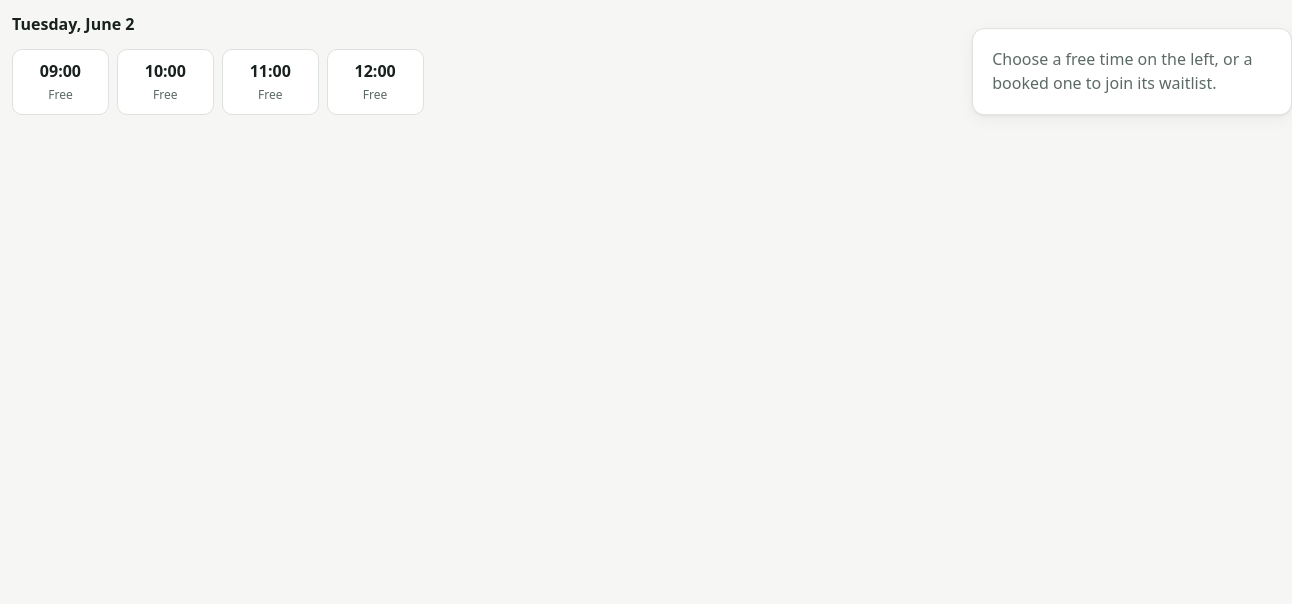
DayView › shows the chosen free time in the booking panel
Click the button "10:00 Free" at (165, 82), box x1=117 y1=49 x2=214 y2=115
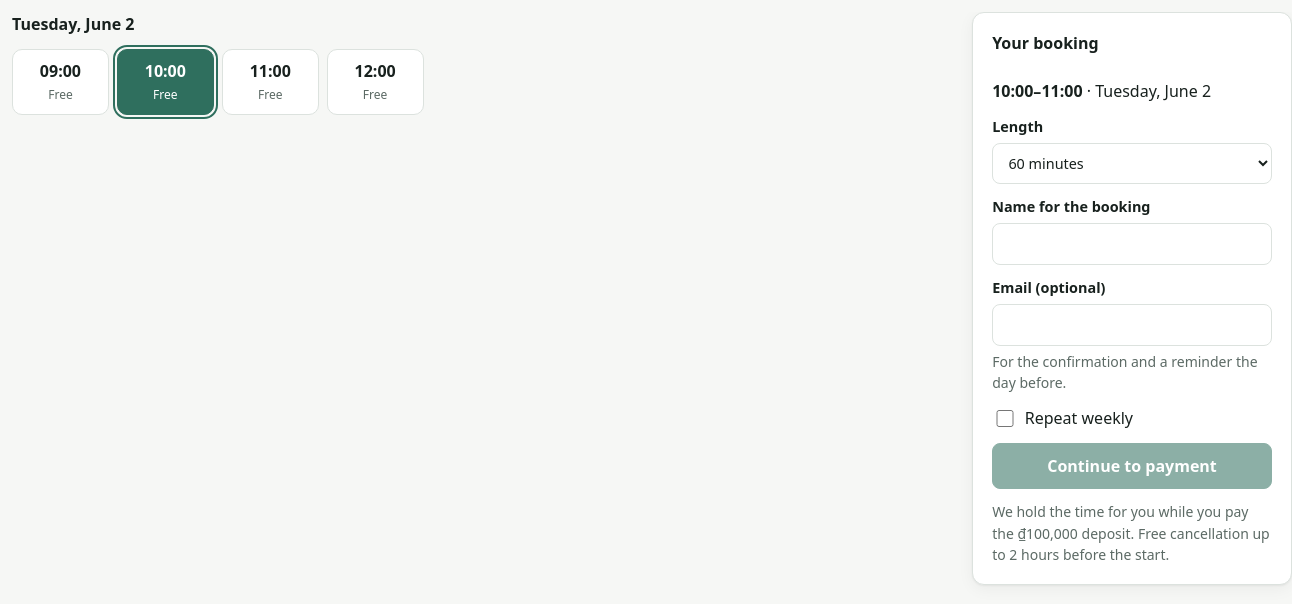
Check: the text "10:00–11:00" is shown, box x1=992 y1=80 x2=1083 y2=102
Check: the button "Continue to payment" is shown, box x1=992 y1=443 x2=1272 y2=489
